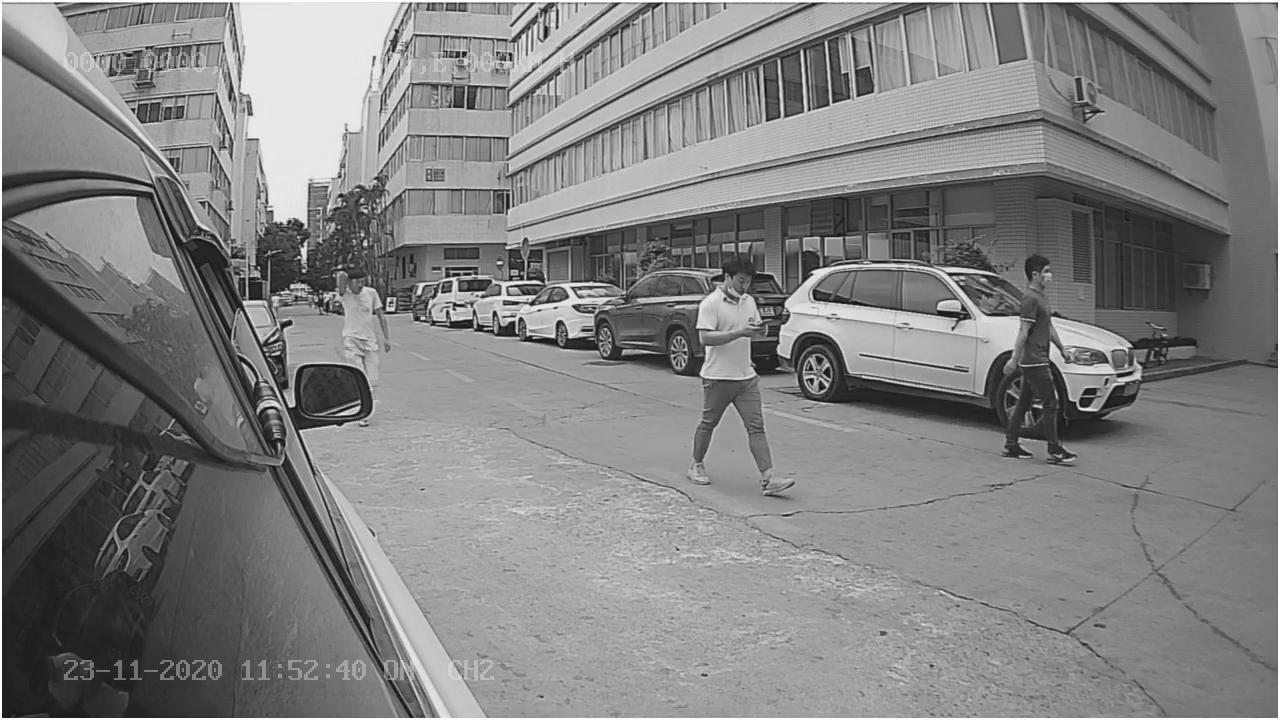person: (685, 254, 782, 468), (328, 264, 393, 361)
